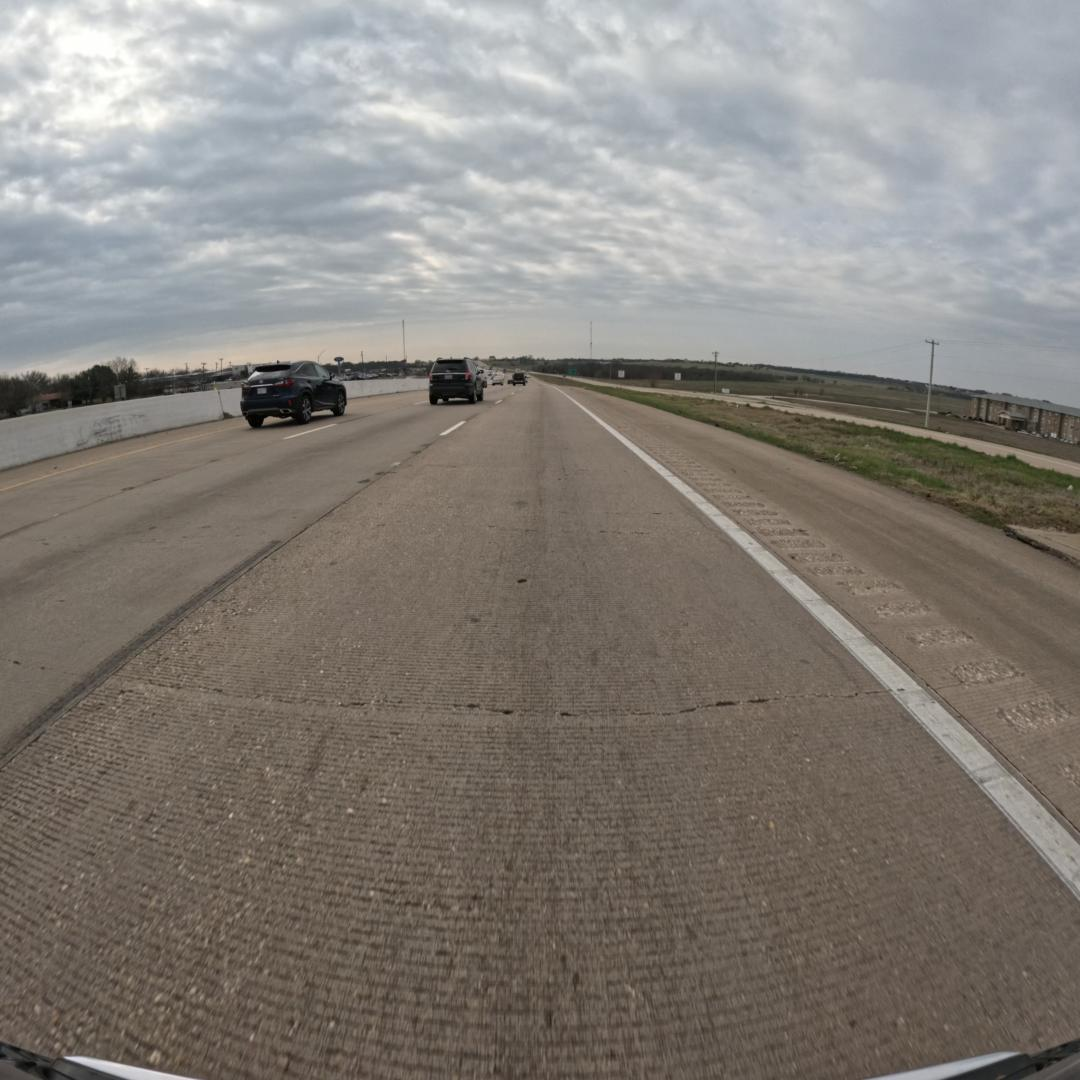lane0: (0, 384, 1080, 1077)
lane1: (0, 390, 509, 756)
